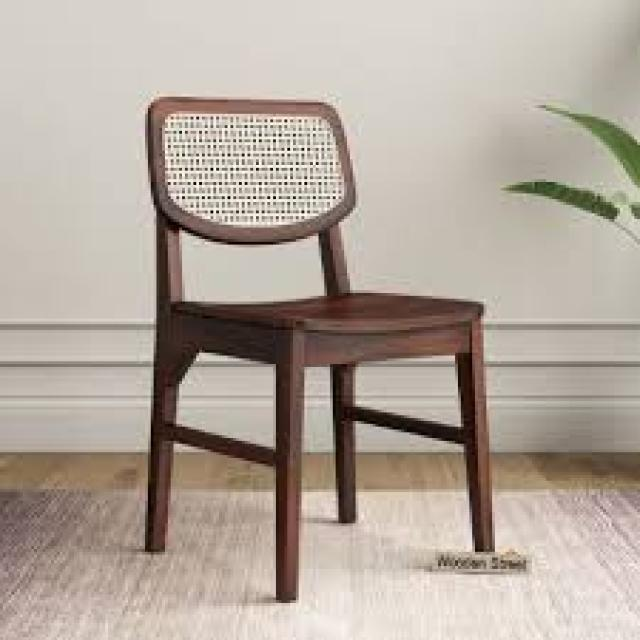obstacle: (102, 60, 541, 632)
